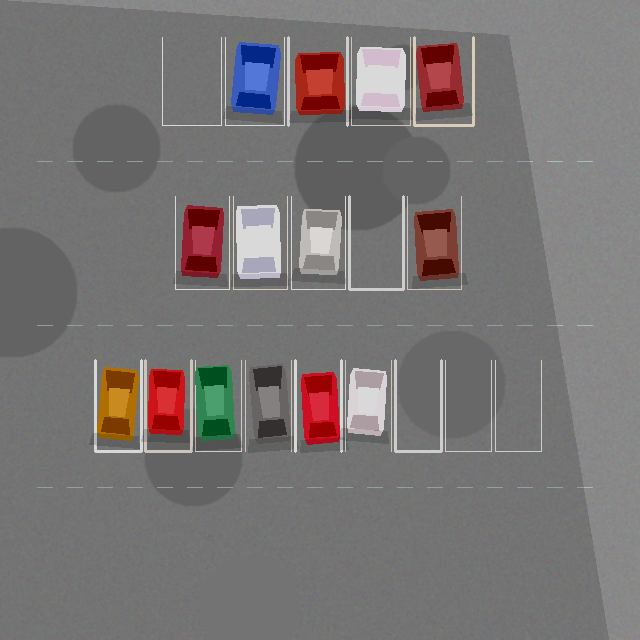space-empty: (162, 37, 221, 125), (349, 196, 403, 289), (395, 360, 441, 451), (445, 360, 491, 451), (495, 360, 541, 451)
space-occupied: (225, 37, 284, 125), (288, 37, 347, 125), (351, 37, 410, 125), (414, 37, 473, 125), (175, 196, 229, 289), (233, 196, 287, 289), (291, 196, 345, 289), (407, 196, 461, 289), (95, 360, 141, 451), (145, 360, 191, 451), (195, 360, 241, 451), (245, 360, 291, 451), (295, 360, 341, 451), (345, 360, 391, 451)
